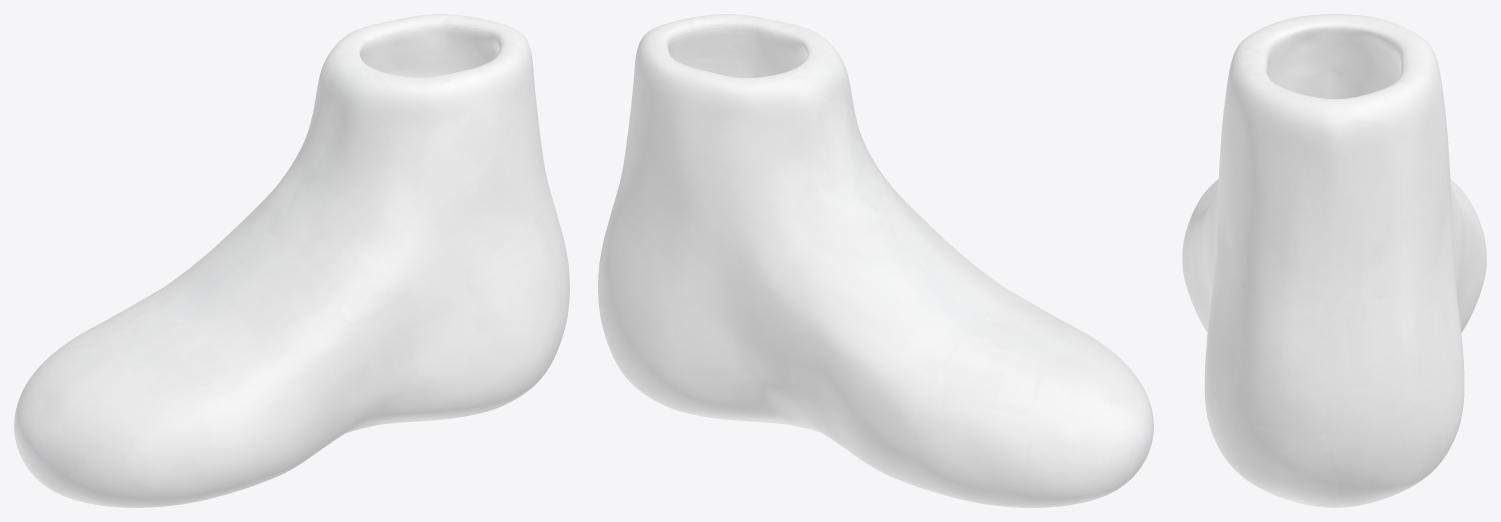
The model's file is pies.glb.
3 views of the same model, side by side, from view 1: azimuth 30°, elevation 25°; view 2: azimuth 150°, elevation 25°; view 3: azimuth 270°, elevation 25° (orthographic). The views are drawn at different scales.
Visible parts, largest first — view 1: Mesh_0; view 2: Mesh_0; view 3: Mesh_0.
Part boxes in pixels (x1=…): Mesh_0: x1=14, y1=14, x2=569, y2=507; Mesh_0: x1=598, y1=14, x2=1153, y2=507; Mesh_0: x1=1182, y1=14, x2=1486, y2=507.
Size of the model in its own units: 0.2581 by 0.168 by 0.1099.
Materials: 1 (1 with a texture image).
